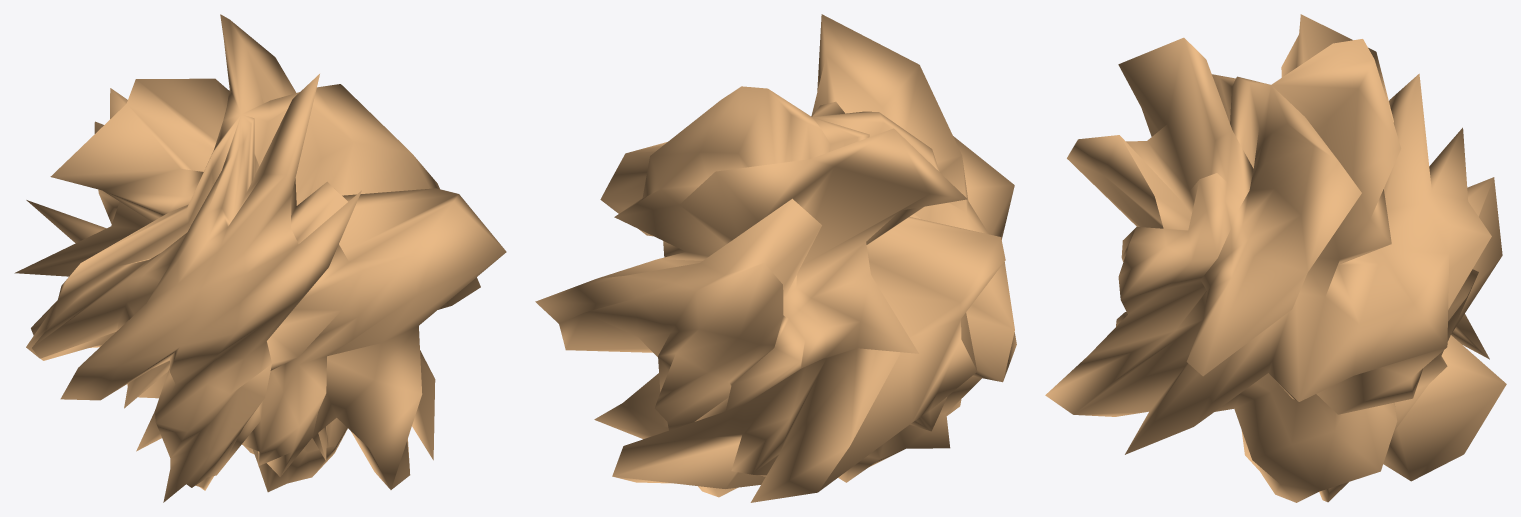
Rendered from Paper1.fbx.
The picture shows the model from 3 angles, left to right: view 1: azimuth 30°, elevation 25°; view 2: azimuth 150°, elevation 25°; view 3: azimuth 270°, elevation 25°; orthographic projection. The views are drawn at different scales.
Parts seen in each view (by area): view 1: Sphere.002; view 2: Sphere.002; view 3: Sphere.002.
Boxes of the visible parts, box(x1,y1,x2,y2) form: Sphere.002: box(14, 14, 506, 502); Sphere.002: box(535, 14, 1016, 502); Sphere.002: box(1045, 14, 1506, 502).
Size of the model in its own units: 120 by 131 by 123.
